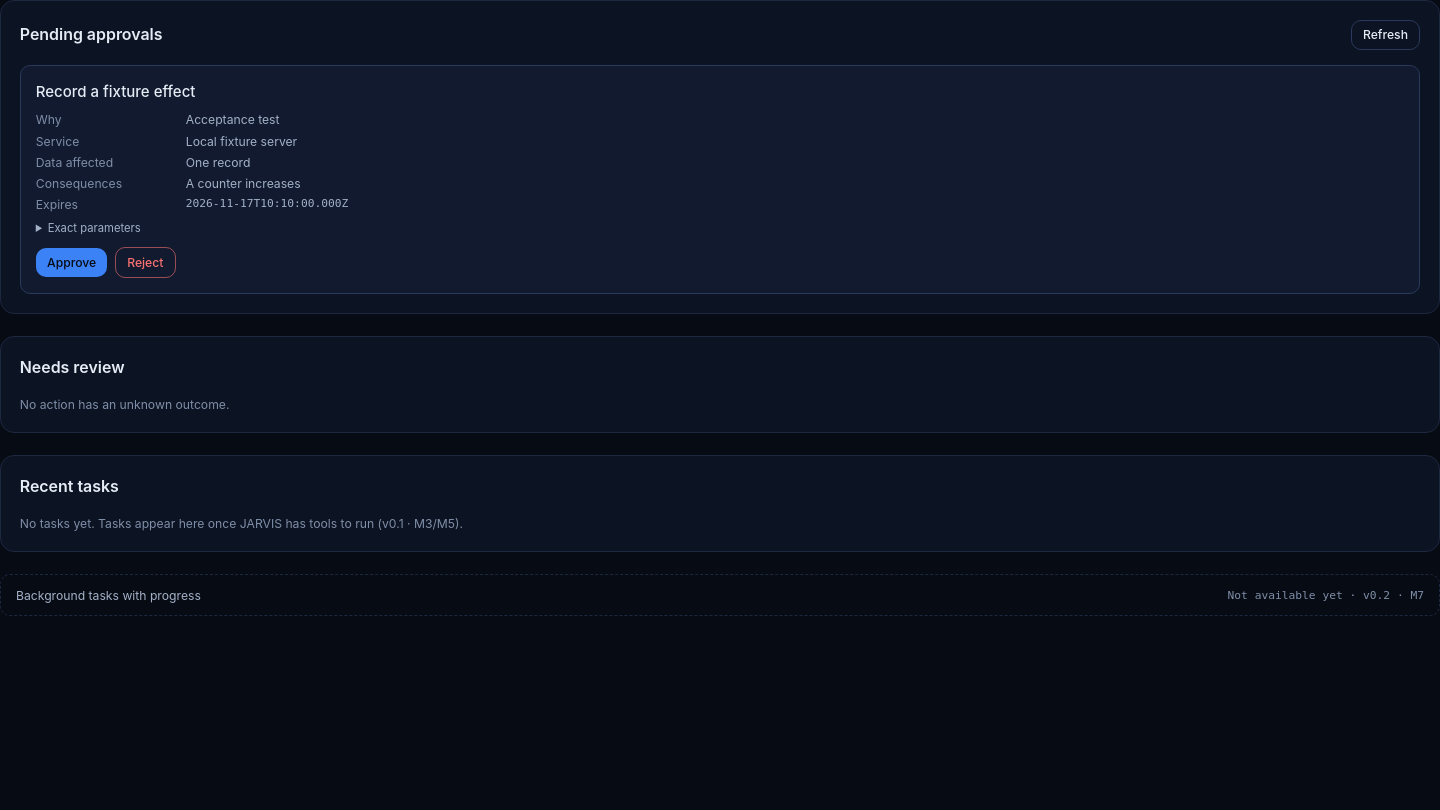
Test: Activity Center › shows what, why, service, data and consequences, and approves via the backend
Expected: the text "Acceptance test" is shown, [186,112,280,127]
Expected: the text "Local fixture server" is shown, [186,134,297,149]
Click the button "Approve". click: {"x": 72, "y": 263}
box: [36,248,108,277]
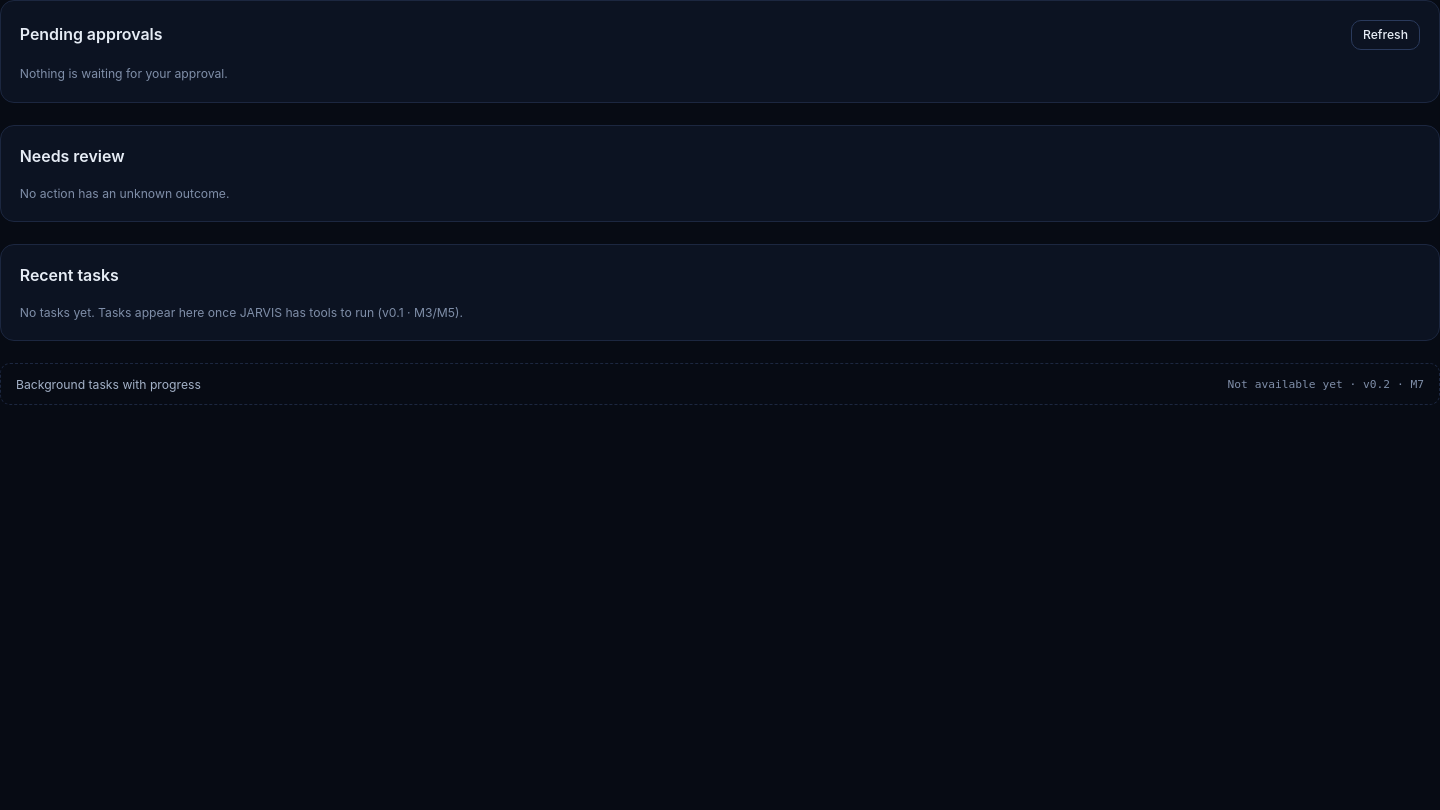
Expected: the text "Nothing is waiting for your approval." is shown, [20,66,228,81]
